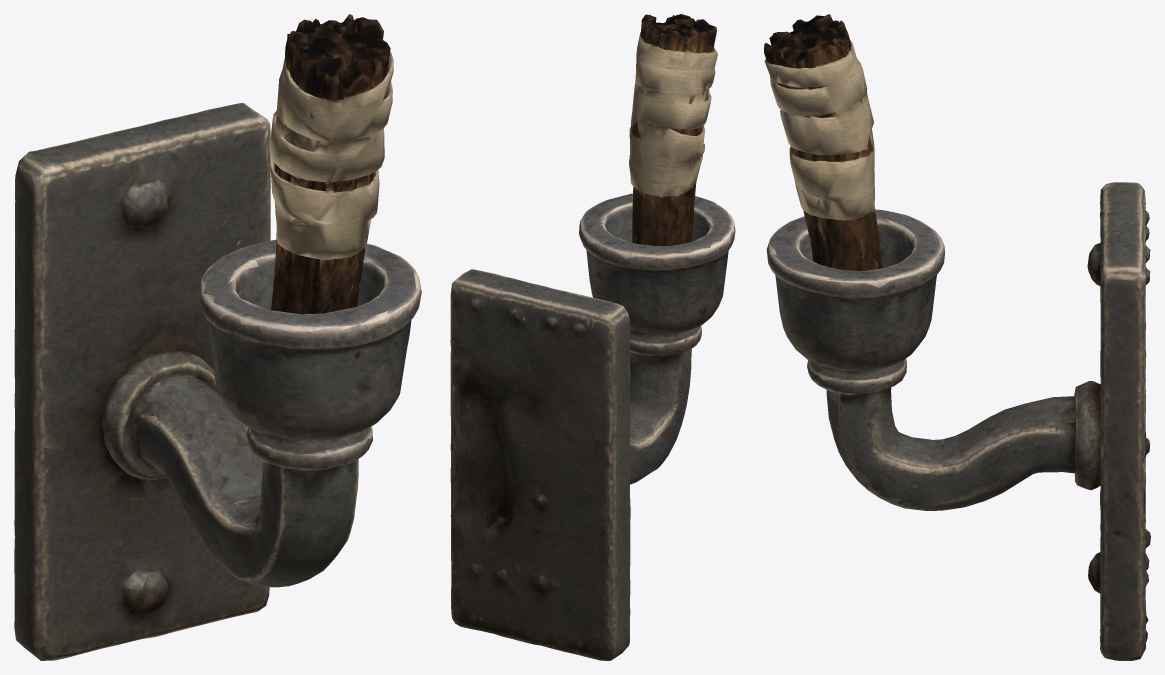
The model's file is wall_sconce.glb.
3 renders of one model, left to right at view 1: azimuth 30°, elevation 25°; view 2: azimuth 150°, elevation 25°; view 3: azimuth 270°, elevation 25°, orthographic. The views are drawn at different scales.
Visible parts, largest first — view 1: prop; view 2: prop; view 3: prop.
Boxes of the visible parts, x1,y1,x2,y2 form: prop: [14, 14, 421, 660]; prop: [450, 14, 735, 660]; prop: [764, 14, 1150, 660].
Size of the model in its own units: 0.2019 by 0.6 by 0.3563.
Materials: 1 (1 with a texture image).
